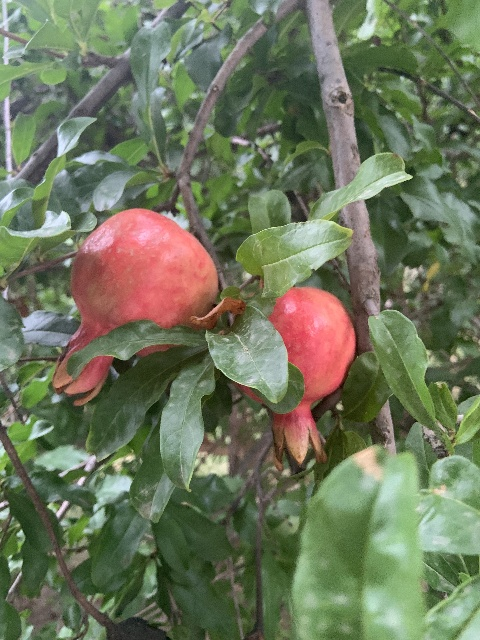ripe: (52, 208, 217, 404), (232, 286, 356, 466)
